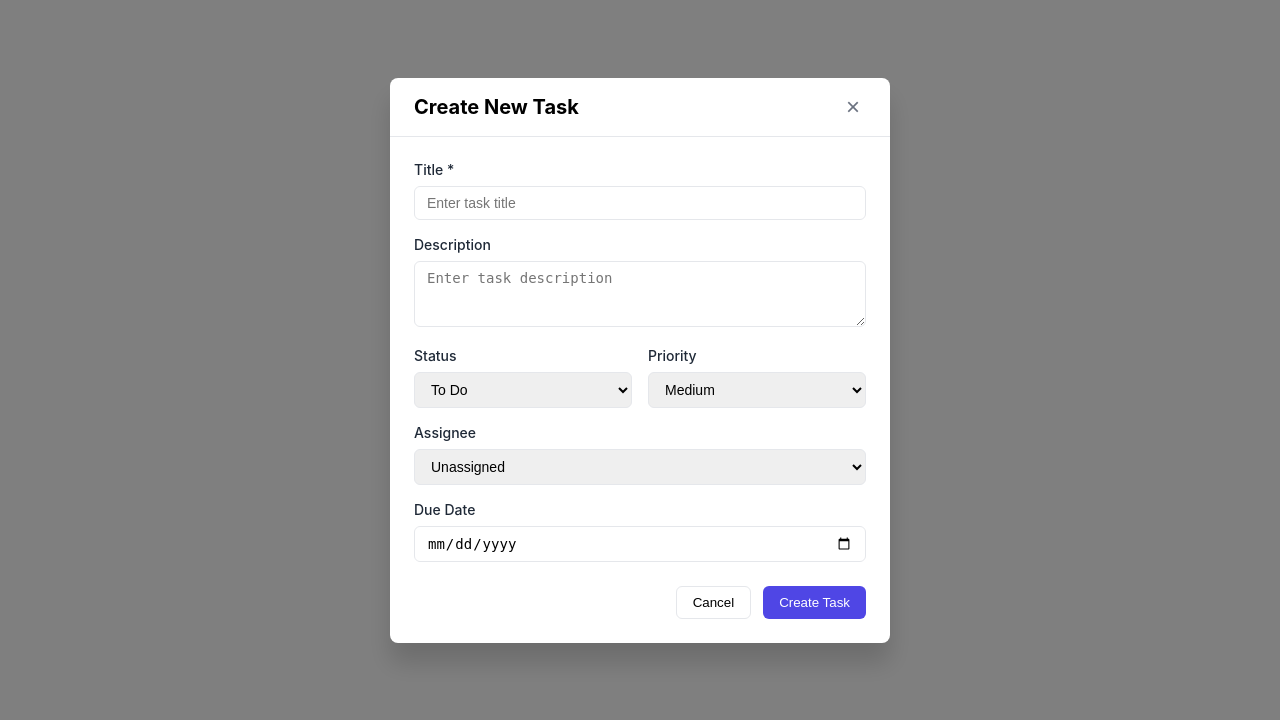
Scenario: TaskForm › should show validation error for empty title on submit
Step 1. Clear the field with test id "form-title-input" → (640, 202), box [414,186,866,220]
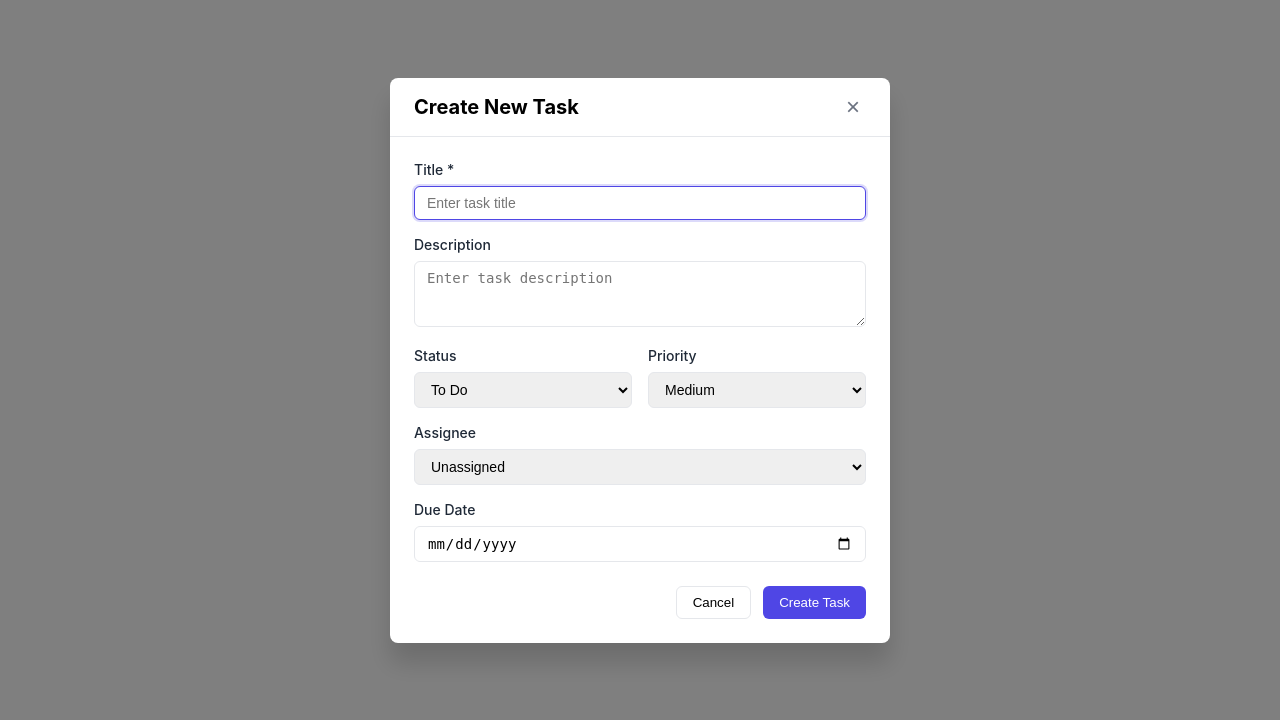
Step 2. Click the button with test id "form-submit-button" → (815, 602), box [763,586,866,618]
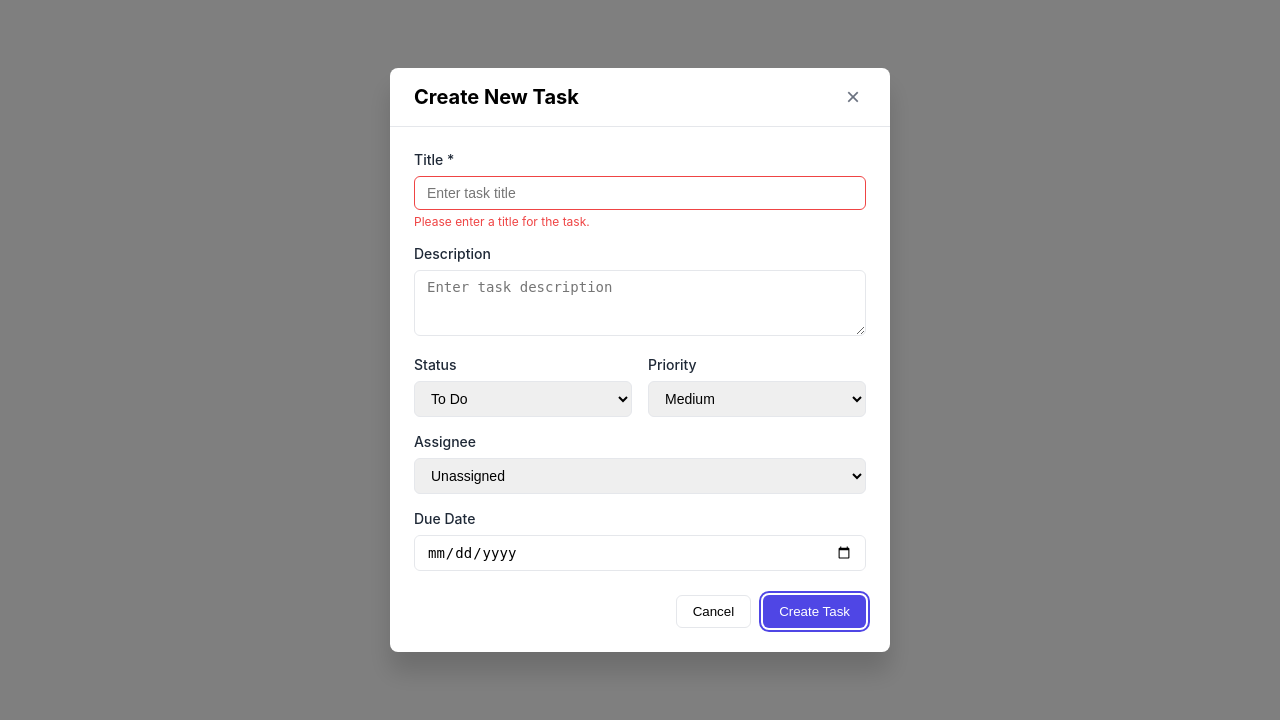
Expected: the message with test id "form-title-error" reads "Please enter a title for the task.", [414,214,590,229]
